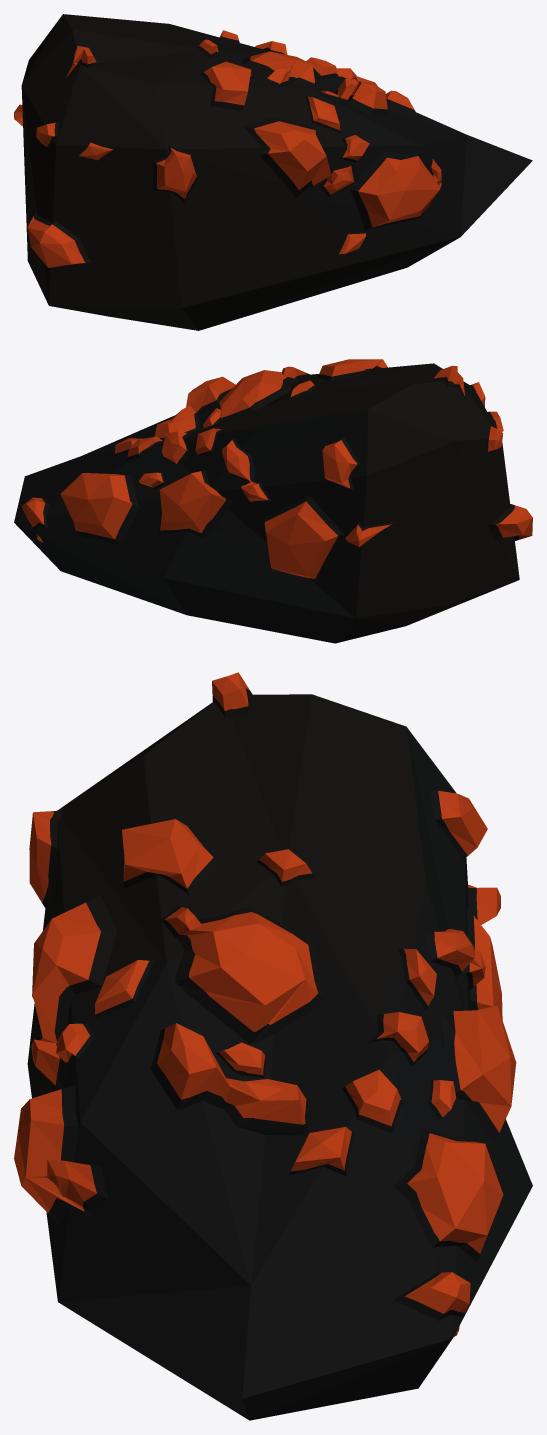
Rendered from Copper Ore Rock.obj.
3 views of the same model, one above another, from view 1: azimuth 30°, elevation 25°; view 2: azimuth 150°, elevation 25°; view 3: azimuth 270°, elevation 25° (orthographic). The views are drawn at different scales.
Visible parts, largest first — view 1: Copper_Ore_Rock.Static; view 2: Copper_Ore_Rock.Static; view 3: Copper_Ore_Rock.Static.
Boxes of the visible parts, x1,y1,x2,y2 form: Copper_Ore_Rock.Static: [14, 14, 532, 330]; Copper_Ore_Rock.Static: [14, 359, 532, 643]; Copper_Ore_Rock.Static: [14, 672, 532, 1420].
Bounding box in the file's own units: 1.67 × 0.8196 × 0.8971.
